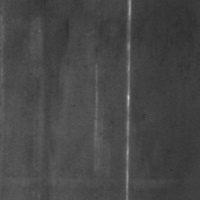scratches: (122, 0, 136, 198)
